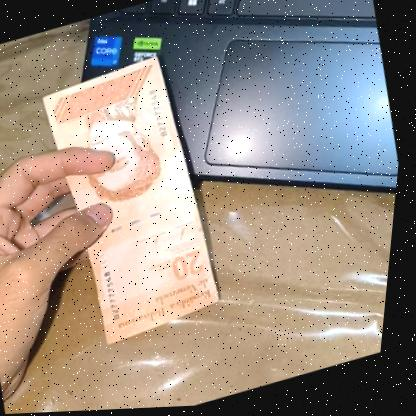twenty-front-vef: (22, 47, 250, 356)
